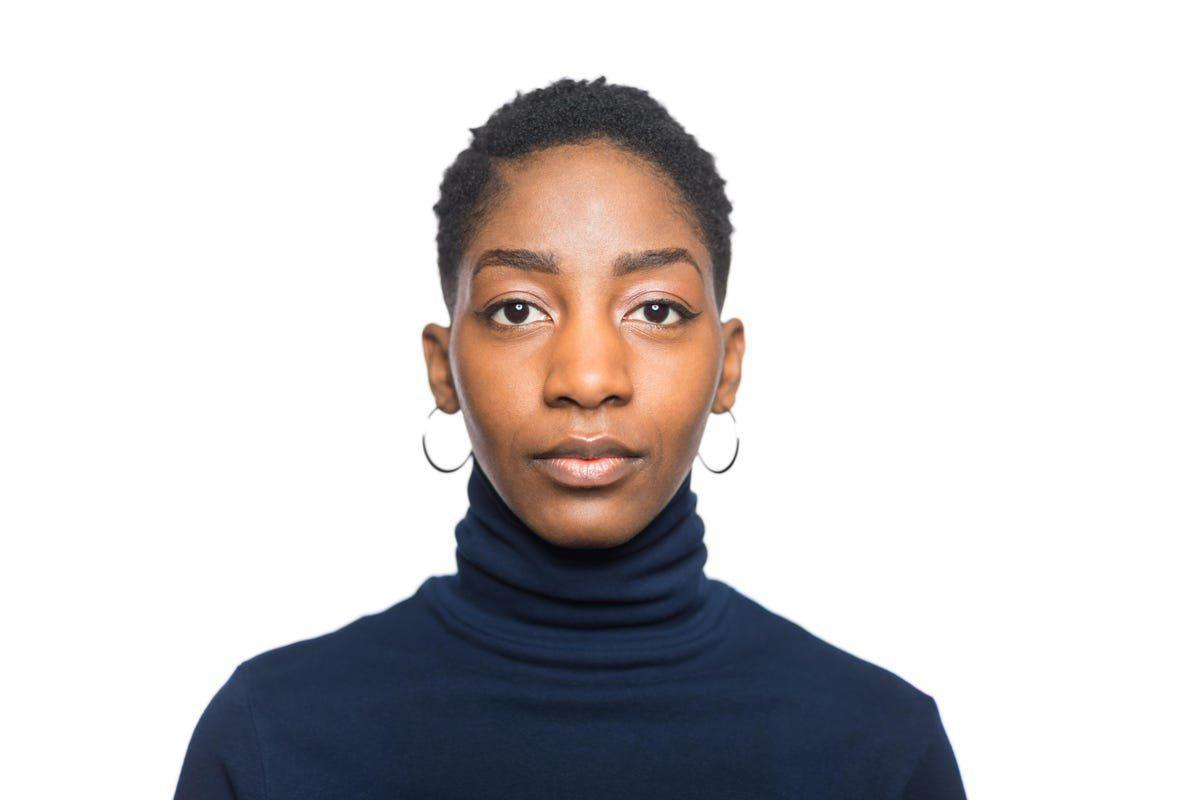Sober: (471, 197, 711, 521)
